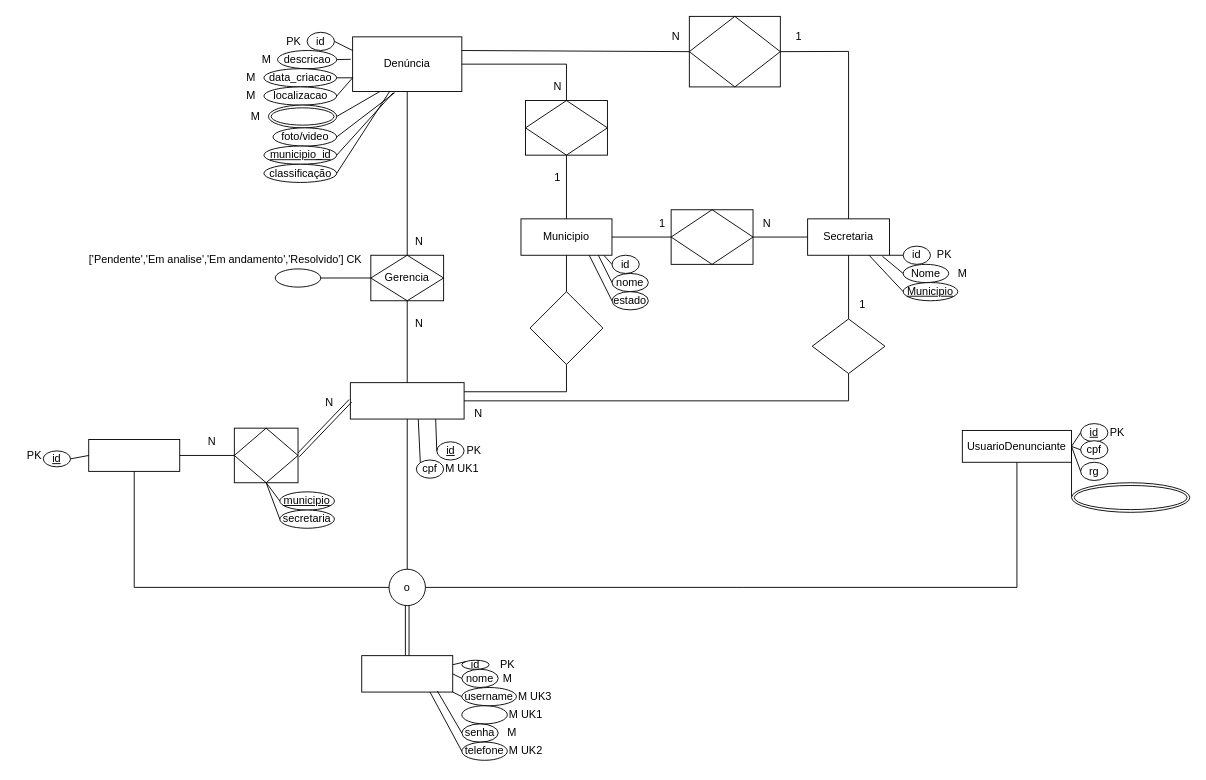
This 1206x780 diagram has some shape labels left out. The shapes that lost their labels are listed below. From the top down, each one's centre as x and y in pixels, then its label:
At [734,51]: "Enviada para".
At [302,116]: "endereco".
At [566,127]: "Ocorre em".
At [711,236]: "Faz parte de".
At [297,277]: "status".
At [566,327]: "Trabalha em".
At [848,346]: "Pertence a".
At [406,400]: "FuncionarioPrefeitura".
At [134,455]: "Administrador".
At [265,455]: "cadastra".
At [1130,497]: "endereco_residencial".
At [407,673]: "Usuário".
At [484,714]: "email".
